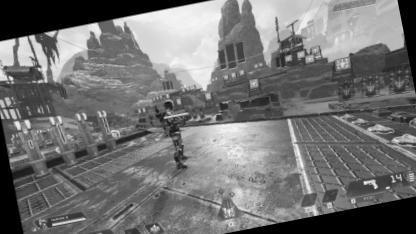Target: (160, 99, 188, 171)
